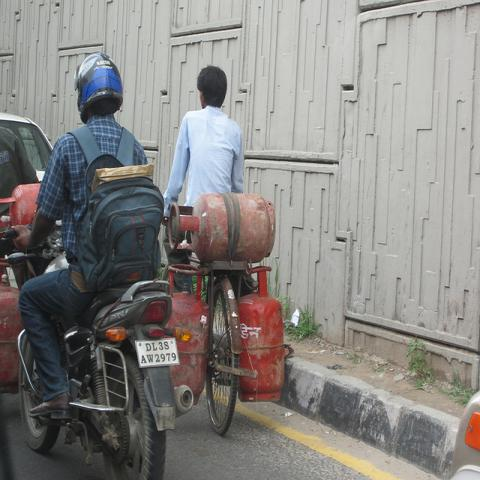car: (0, 110, 54, 198)
motorcycle: (8, 219, 195, 472)
